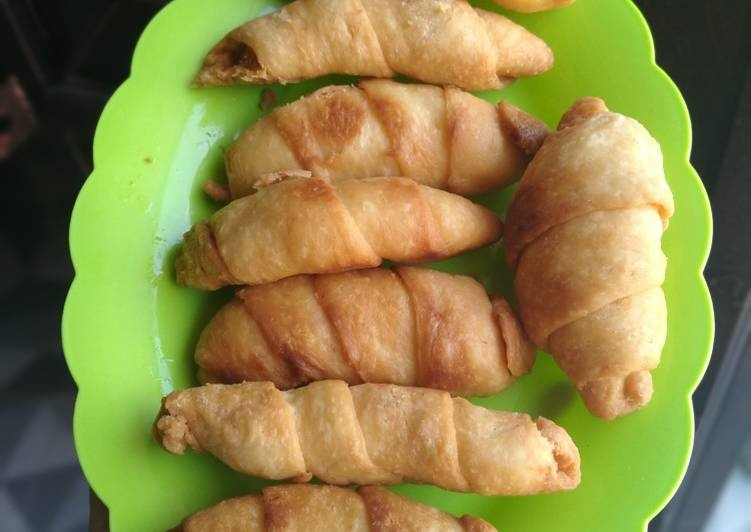pisang_molen: (506, 96, 676, 422), (156, 382, 585, 502), (195, 269, 539, 407), (205, 80, 541, 200), (172, 176, 506, 291)
